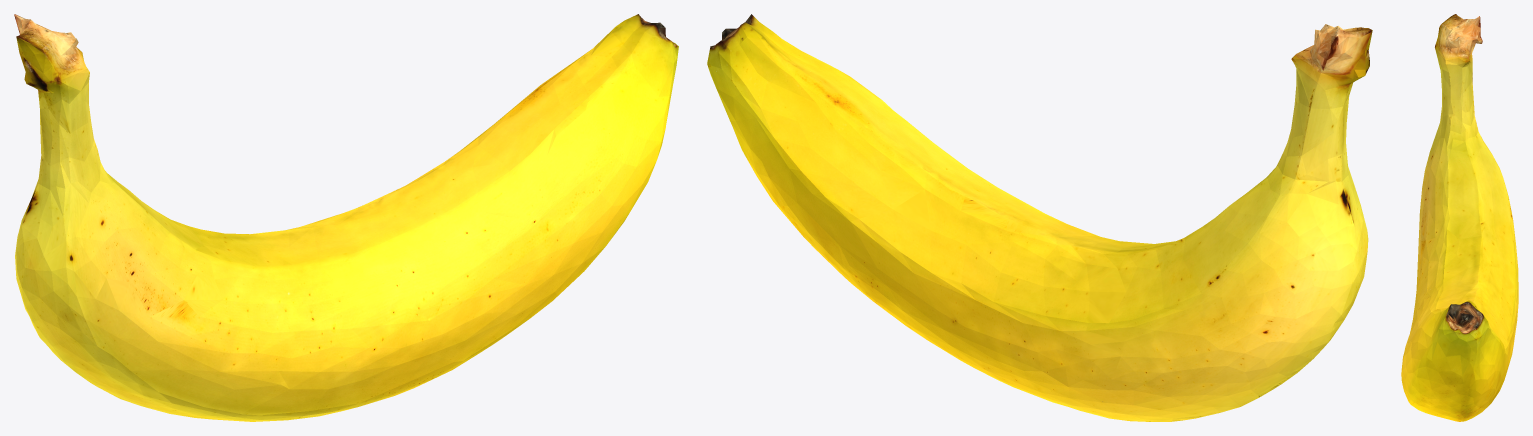
The model's file is banana.glb.
3 renders of one model, left to right at view 1: azimuth 30°, elevation 25°; view 2: azimuth 150°, elevation 25°; view 3: azimuth 270°, elevation 25°, orthographic. The views are drawn at different scales.
Parts seen in each view (by area): view 1: banana; view 2: banana; view 3: banana.
Part boxes in pixels (bbox=[...]): banana: bbox=[14, 14, 678, 421]; banana: bbox=[707, 14, 1372, 421]; banana: bbox=[1401, 14, 1518, 421].
Bounding box in the file's own units: 6.79 × 4.43 × 1.62.
Materials: 1 (1 with a texture image).
